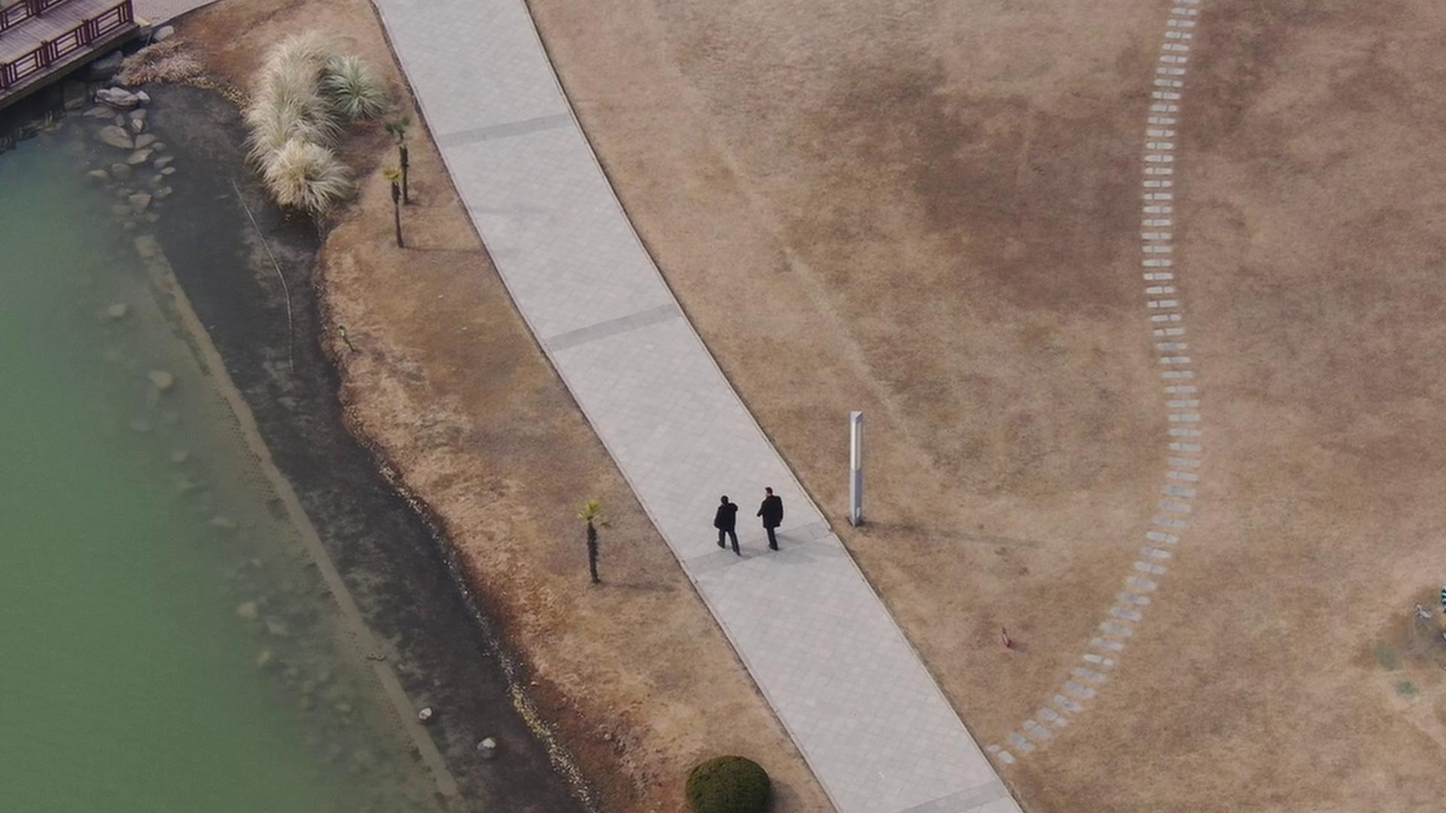human: (756, 476, 798, 548), (713, 486, 747, 548)
